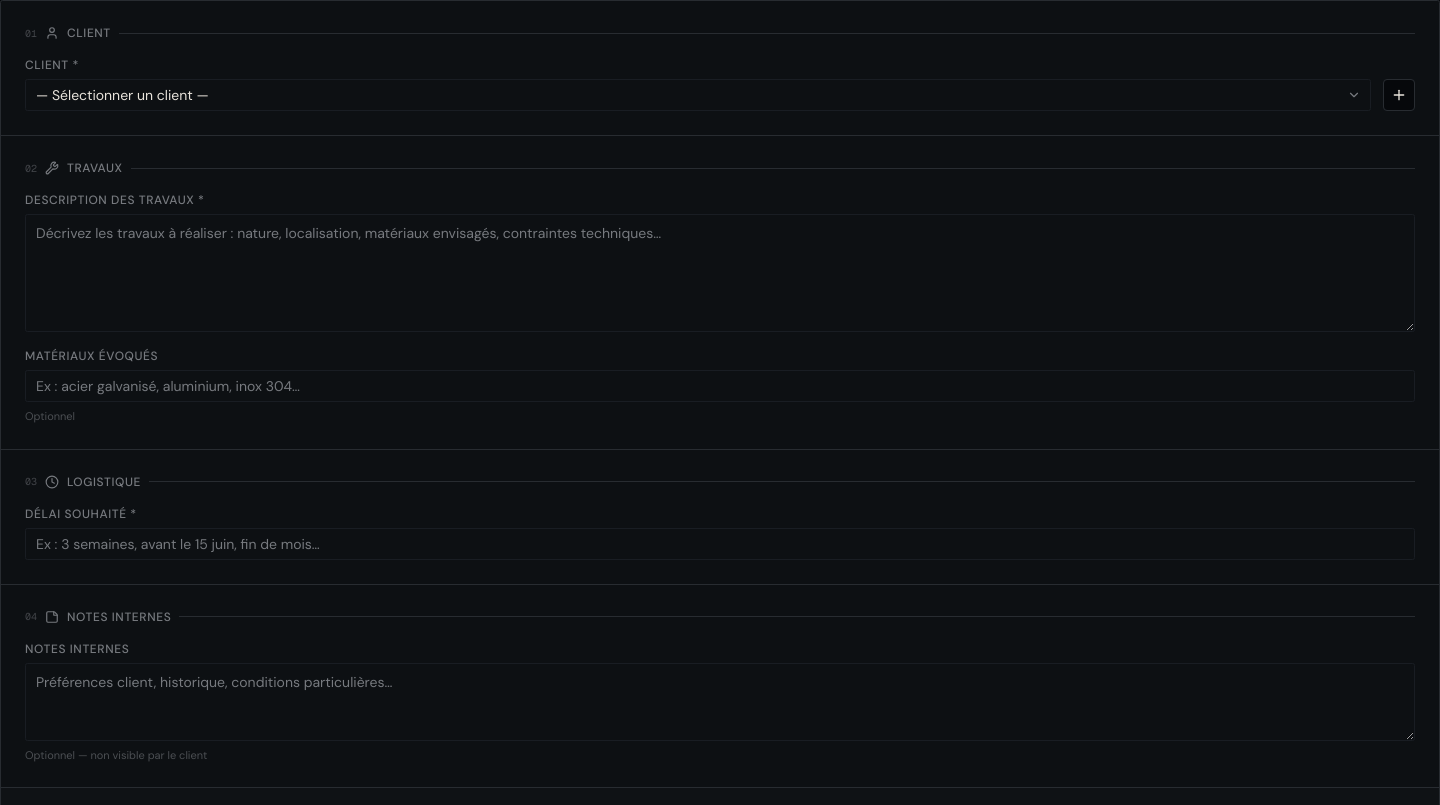
Test: QuoteRequestForm › opens the new client dialog when clicking the + button
Click the button titled "Créer un nouveau client": (1399,95) [1383,79,1415,111]
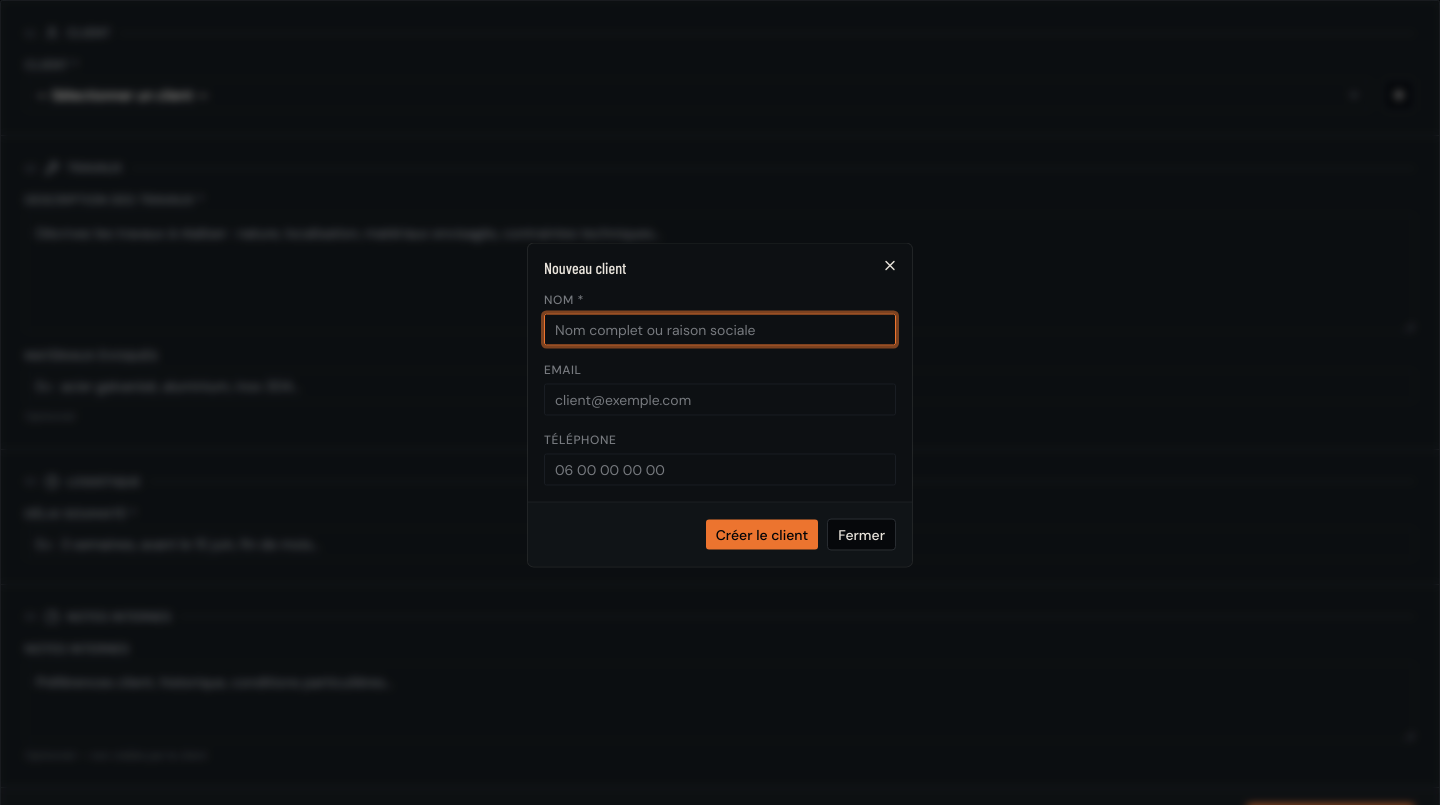
Now the heading "Nouveau client" is shown, box [544,258,626,276]
Now the field labelled "Nom *" is shown, box [544,314,896,346]
